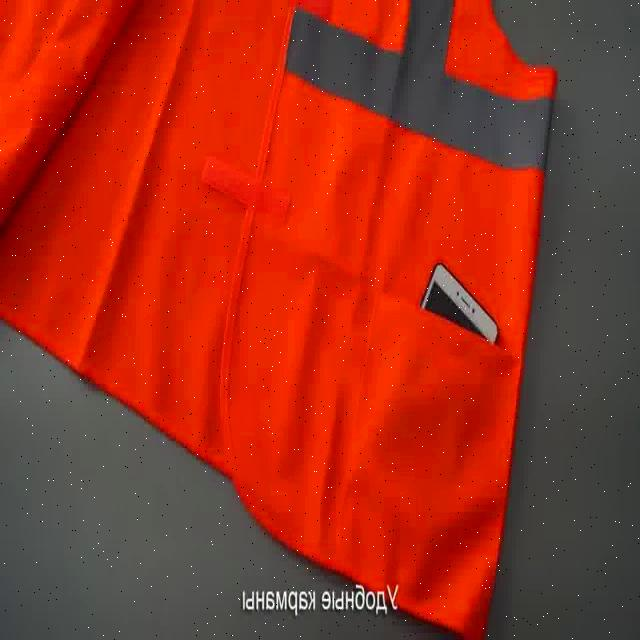Vest: (76, 0, 543, 631)
